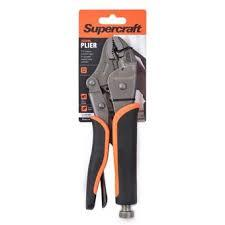pliers: (83, 34, 139, 219)
